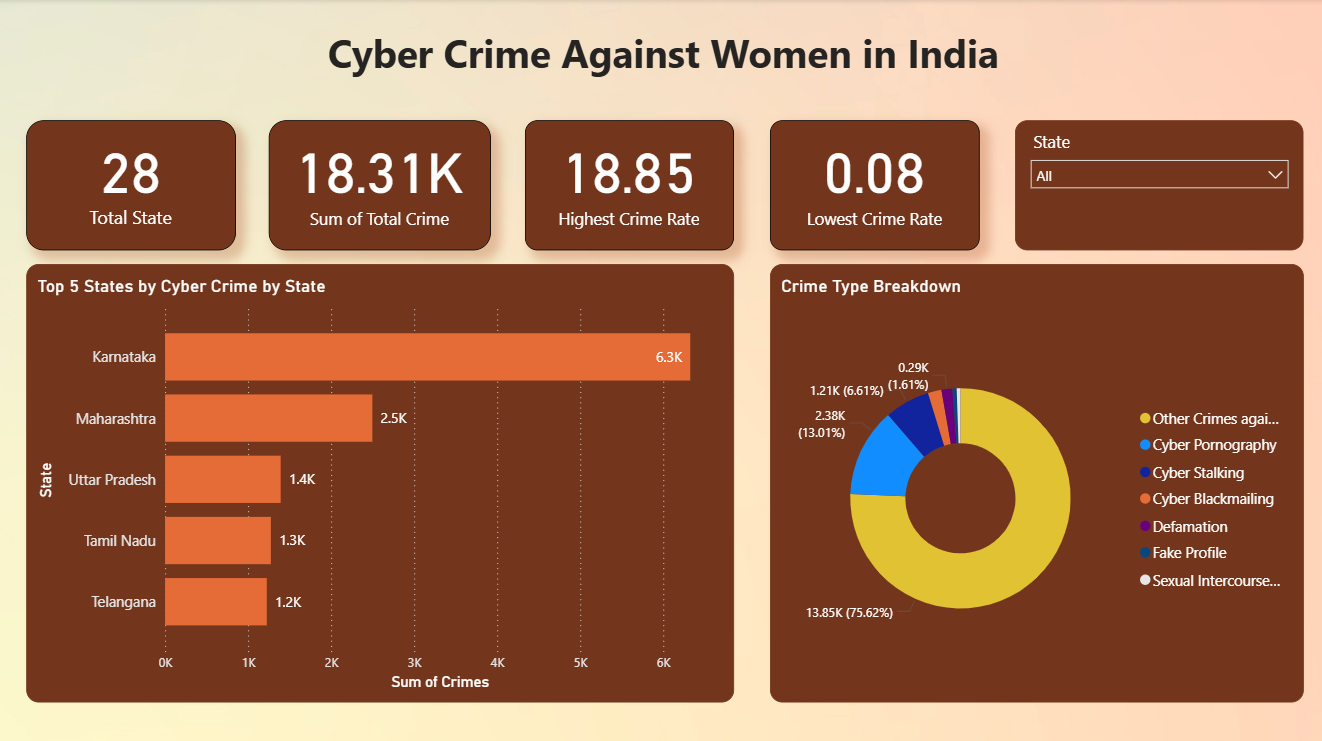

This screenshot's page, from the dashboard's own definition file:
{"tool":"powerbi","page":{"name":"Page 1","canvas":[1280,720],"ordinal":0},"visuals":[{"type":"cardVisual","fields":{"Data":["Count(Crime Rate Per Lakh.State)"]},"box":[25.3,117,202.7,125.5],"z":0},{"type":"cardVisual","fields":{"Data":["Sum(Rank and Contribution.Total Crime)"]},"box":[259.4,117,214.7,125.5],"z":1000},{"type":"cardVisual","fields":{"Data":["Max(Crime Rate Per Lakh.Cyber Crime Rate per 1 Lakh Women)"]},"box":[506.7,117,201.5,125.5],"z":2000},{"type":"cardVisual","fields":{"Data":["Min(Crime Rate Per Lakh.Cyber Crime Rate per 1 Lakh Women)"]},"box":[743.2,117,202.7,125.5],"z":3000},{"type":"textbox","box":[296.7,21.7,686.7,66.7],"z":4000},{"type":"barChart","fields":{"Category":["Raw Data.State"],"Y":["Sum(Raw Data.Total Crimes)"]},"box":[25.7,255.7,682.9,422.9],"z":5000},{"type":"donutChart","title":"Crime Type Breakdown","fields":{"Category":["Raw Data.Attribute"],"Y":["Sum(Raw Data.Total Crimes)"]},"box":[743.2,255.8,515.2,423.5],"z":6000},{"type":"slicer","fields":{"Values":["Rank and Contribution.State"]},"box":[979.6,117,278.7,125.5],"z":8000}]}

Visuals, with their boxes in screenshot pixels (x1, y1, x2, y2), scaled from the page's 1280x720 canvas onto the 1322x741 screenshot:
cardVisual - Count(Crime Rate Per Lakh.State): (left=26, top=120, right=235, bottom=250)
cardVisual - Sum(Rank and Contribution.Total Crime): (left=268, top=120, right=490, bottom=250)
cardVisual - Max(Crime Rate Per Lakh.Cyber Crime Rate per 1 Lakh Women): (left=523, top=120, right=731, bottom=250)
cardVisual - Min(Crime Rate Per Lakh.Cyber Crime Rate per 1 Lakh Women): (left=768, top=120, right=977, bottom=250)
textbox: (left=306, top=22, right=1016, bottom=91)
barChart - Raw Data.State x Sum(Raw Data.Total Crimes): (left=27, top=263, right=732, bottom=698)
"Crime Type Breakdown" donutChart: (left=768, top=263, right=1300, bottom=699)
slicer - Rank and Contribution.State: (left=1012, top=120, right=1300, bottom=250)
